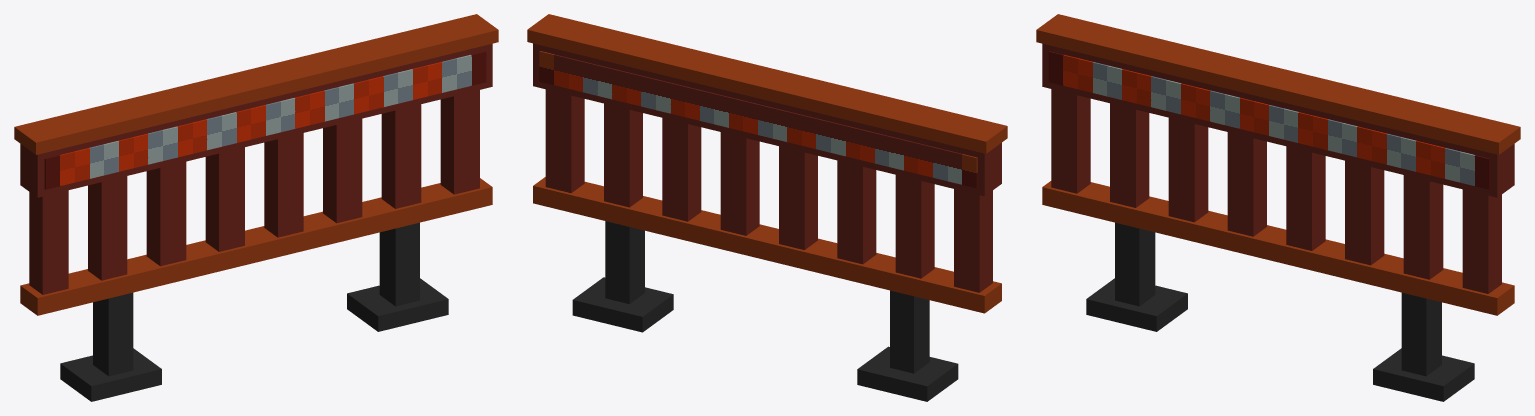
File: CMU3DPlasticRoadBarrierRed.glb
3 views of the same model, side by side, from view 1: azimuth 30°, elevation 25°; view 2: azimuth 150°, elevation 25°; view 3: azimuth 330°, elevation 25° (orthographic).
Parts seen in each view (by area): view 1: top cap, South original reflector, bottom frame, top frame, vertical web 2, vertical web 6, vertical web 0, vertical web 1, vertical web 5, vertical web 4, vertical web 7, vertical web 3 (+4 smaller); view 2: top cap, North original reflector, bottom frame, top frame, vertical web 7, vertical web 4, vertical web 1, vertical web 2, vertical web 5, vertical web 0, vertical web 3, vertical web 6 (+4 smaller); view 3: top cap, South original reflector, bottom frame, top frame, vertical web 2, vertical web 6, vertical web 7, vertical web 3, vertical web 0, vertical web 4, vertical web 5, vertical web 1 (+4 smaller).
Boxes of the visible parts, x1=… form: top cap: x1=14, y1=14, x2=498, y2=154; South original reflector: x1=44, y1=51, x2=486, y2=189; bottom frame: x1=20, y1=178, x2=492, y2=315; top frame: x1=20, y1=43, x2=492, y2=197; vertical web 2: x1=146, y1=161, x2=186, y2=266; vertical web 6: x1=381, y1=104, x2=421, y2=208; vertical web 0: x1=29, y1=190, x2=68, y2=294; vertical web 1: x1=88, y1=176, x2=127, y2=280; vertical web 5: x1=323, y1=118, x2=362, y2=223; vertical web 4: x1=264, y1=133, x2=303, y2=237; vertical web 7: x1=440, y1=90, x2=479, y2=194; vertical web 3: x1=205, y1=147, x2=244, y2=251; top cap: x1=527, y1=14, x2=1007, y2=153; North original reflector: x1=539, y1=51, x2=977, y2=188; bottom frame: x1=533, y1=177, x2=1001, y2=313; top frame: x1=533, y1=43, x2=1001, y2=196; vertical web 7: x1=545, y1=89, x2=584, y2=193; vertical web 4: x1=720, y1=132, x2=759, y2=235; vertical web 1: x1=895, y1=175, x2=934, y2=278; vertical web 2: x1=837, y1=160, x2=876, y2=264; vertical web 5: x1=662, y1=118, x2=701, y2=221; vertical web 0: x1=954, y1=189, x2=992, y2=292; vertical web 3: x1=779, y1=146, x2=817, y2=249; vertical web 6: x1=604, y1=103, x2=642, y2=207; top cap: x1=1036, y1=14, x2=1520, y2=154; South original reflector: x1=1048, y1=51, x2=1490, y2=189; bottom frame: x1=1042, y1=181, x2=1514, y2=315; top frame: x1=1042, y1=43, x2=1514, y2=197; vertical web 2: x1=1168, y1=117, x2=1208, y2=222; vertical web 6: x1=1403, y1=175, x2=1443, y2=279; vertical web 7: x1=1462, y1=189, x2=1501, y2=293; vertical web 3: x1=1227, y1=132, x2=1266, y2=236; vertical web 0: x1=1051, y1=89, x2=1090, y2=193; vertical web 4: x1=1286, y1=146, x2=1325, y2=250; vertical web 5: x1=1345, y1=160, x2=1384, y2=265; vertical web 1: x1=1110, y1=103, x2=1149, y2=207.
Size of the model in its own units: 0.984 by 0.549 by 0.115.
Materials: 5 (2 with a texture image).
